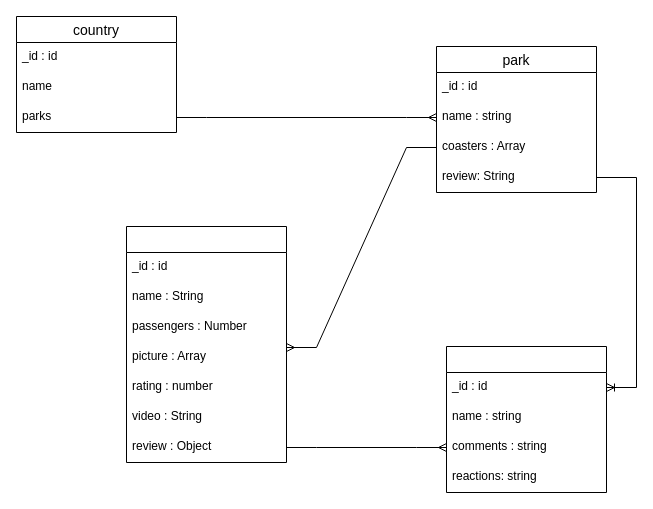
The diagram is 653 pixels wide and 509 high, and some of its shapes have lost their labels. The box of each missing label's shape, as (x1, y1, x2, y2) in pixels:
reviews: (446, 346, 606, 492)
rollerCoaster: (126, 226, 286, 462)
